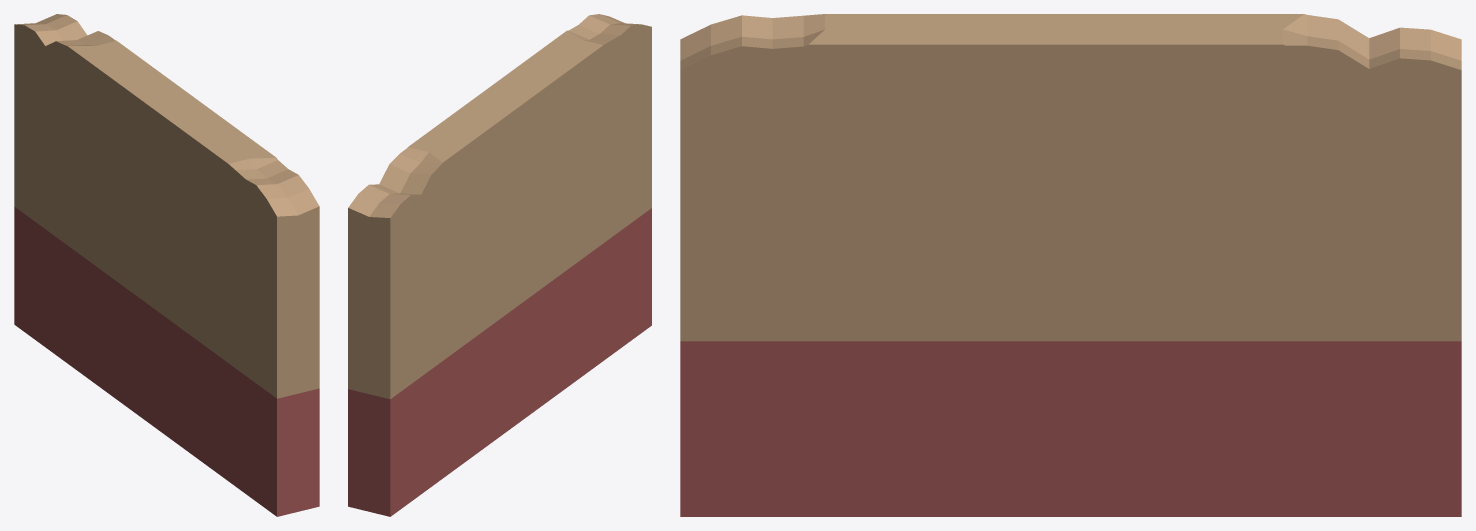
The model's file is Wall.fbx.
The picture shows the model from 3 angles, left to right: view 1: azimuth 30°, elevation 25°; view 2: azimuth 150°, elevation 25°; view 3: azimuth 270°, elevation 25°; orthographic projection. The views are drawn at different scales.
Visible parts, largest first — view 1: Wall Final; view 2: Wall Final; view 3: Wall Final.
Part boxes in pixels (left/top/right/bottom): Wall Final: left=14, top=14, right=319, bottom=516; Wall Final: left=348, top=14, right=651, bottom=516; Wall Final: left=680, top=14, right=1461, bottom=516.
Bounding box in the file's own units: 1500 × 1000 × 140.
